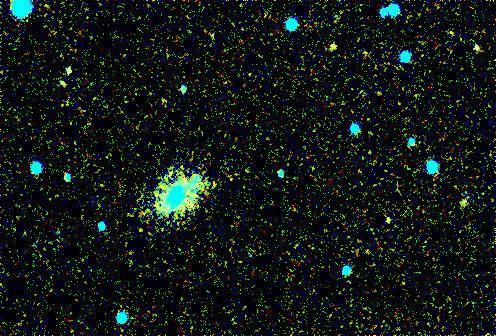star: (177, 170, 207, 200)
